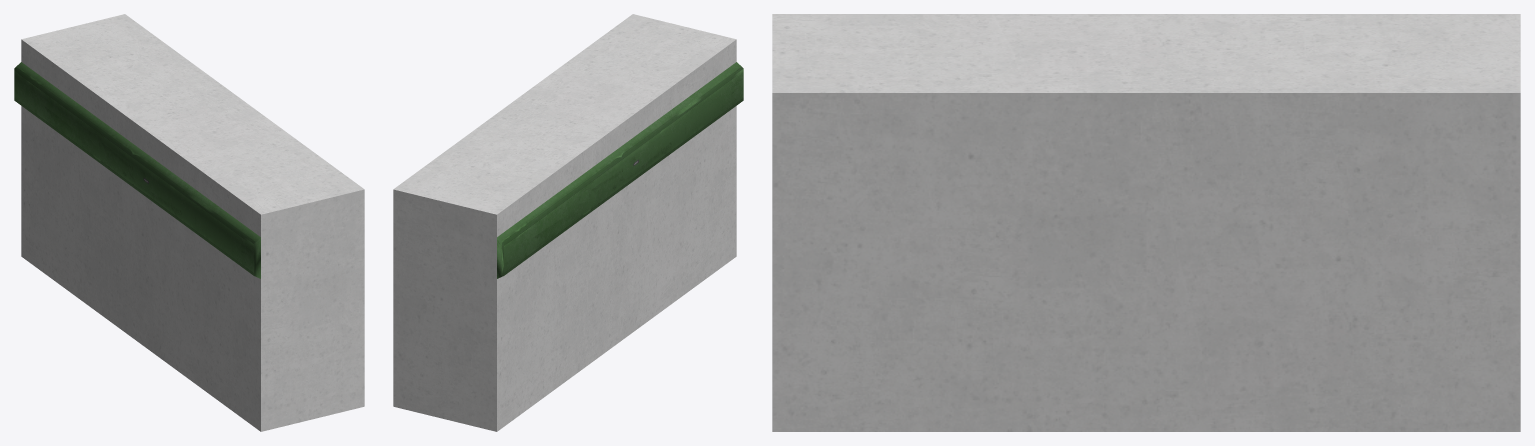
Rendered from MB_Parapet_D_2m.fbx.
The picture shows the model from 3 angles, left to right: view 1: azimuth 30°, elevation 25°; view 2: azimuth 150°, elevation 25°; view 3: azimuth 270°, elevation 25°; orthographic projection. The views are drawn at different scales.
Visible parts, largest first — view 1: MB_Parapet_2m_D; view 2: MB_Parapet_2m_D; view 3: MB_Parapet_2m_D.
Part boxes in pixels (box(x1,y1,x2,y2)): MB_Parapet_2m_D: box(14, 14, 364, 431); MB_Parapet_2m_D: box(393, 14, 743, 431); MB_Parapet_2m_D: box(772, 14, 1520, 431).
Size of the model in its own units: 53.42 by 100 by 200.
